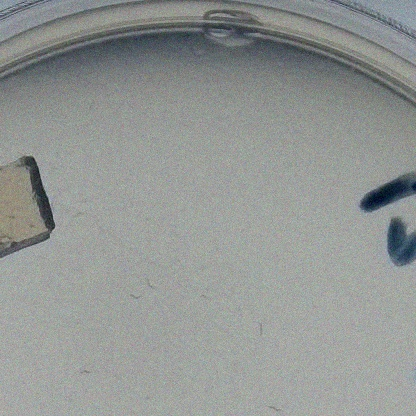worm: (194, 286, 226, 309), (251, 320, 275, 350), (123, 288, 148, 304), (69, 206, 89, 224), (112, 374, 133, 391), (141, 277, 164, 292), (143, 214, 162, 232), (71, 365, 94, 379), (262, 404, 287, 416), (81, 100, 101, 113)
